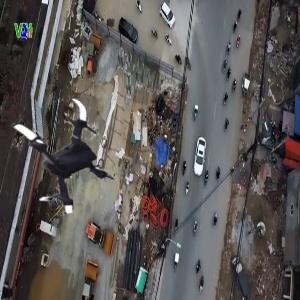drone: (2, 96, 133, 227)
